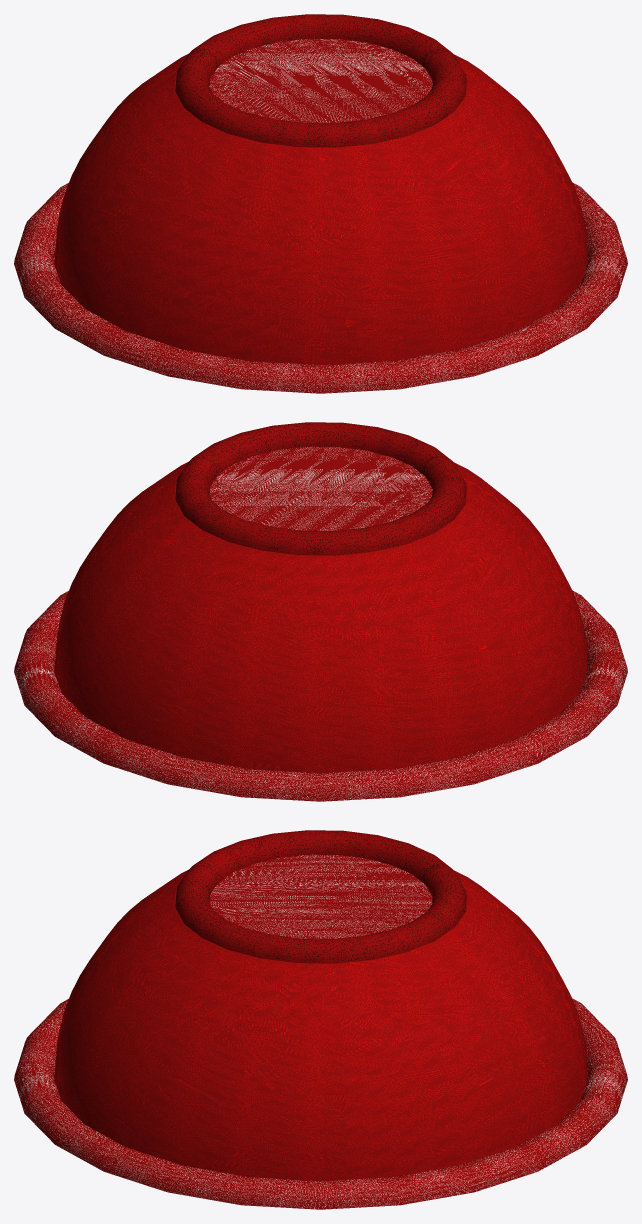
Rendered from redNote.dae.
3 views of the same model, one above another, from view 1: azimuth 30°, elevation 25°; view 2: azimuth 150°, elevation 25°; view 3: azimuth 270°, elevation 25° (orthographic).
Parts seen in each view (by area): view 1: group_0 (×4); view 2: group_0 (×4); view 3: group_0 (×4).
Boxes of the visible parts, <box> form: group_0 (×4): <box>14,14,627,393</box>; group_0 (×4): <box>14,422,627,801</box>; group_0 (×4): <box>14,830,627,1209</box>.
Size of the model in its own units: 78.74 by 78.74 by 27.43.
